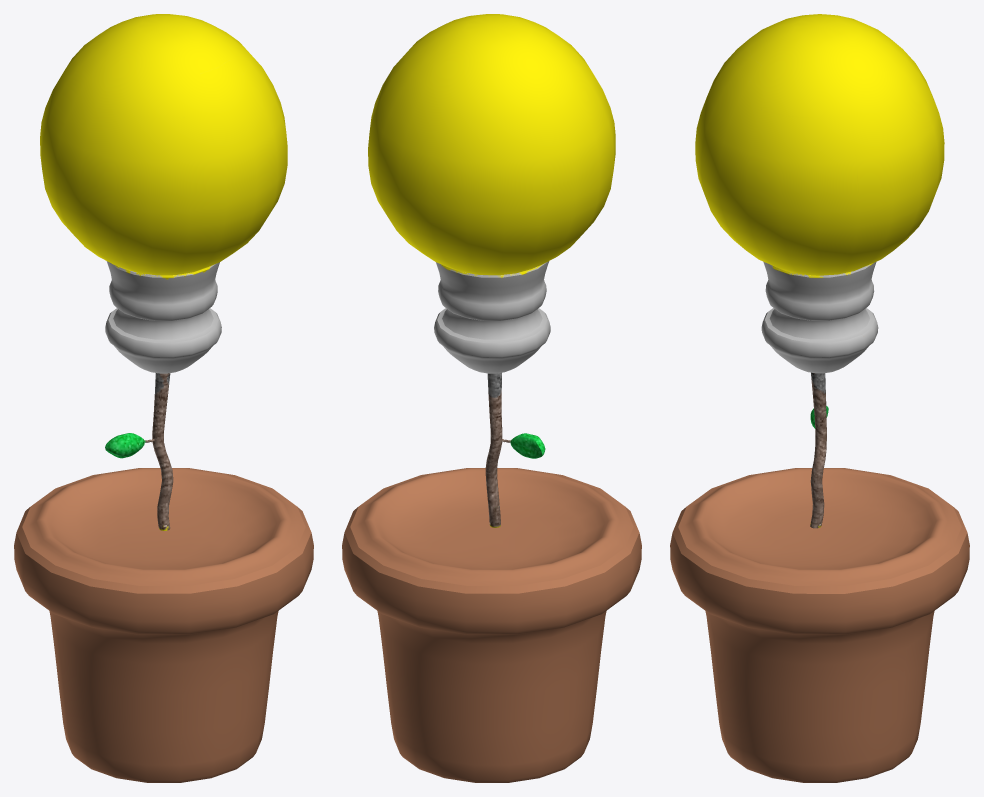
Rendered from bombillo.glb.
3 renders of one model, left to right at view 1: azimuth 30°, elevation 25°; view 2: azimuth 150°, elevation 25°; view 3: azimuth 270°, elevation 25°, orthographic.
Visible parts, largest first — view 1: node_id6; view 2: node_id6; view 3: node_id6.
Boxes of the visible parts, left/top/right/bottom form: node_id6: left=14, top=14, right=313, bottom=782; node_id6: left=342, top=14, right=641, bottom=782; node_id6: left=670, top=14, right=969, bottom=782.
Bounding box in the file's own units: 0.1898 × 0.5103 × 0.1926.
Materials: 1 (1 with a texture image).
